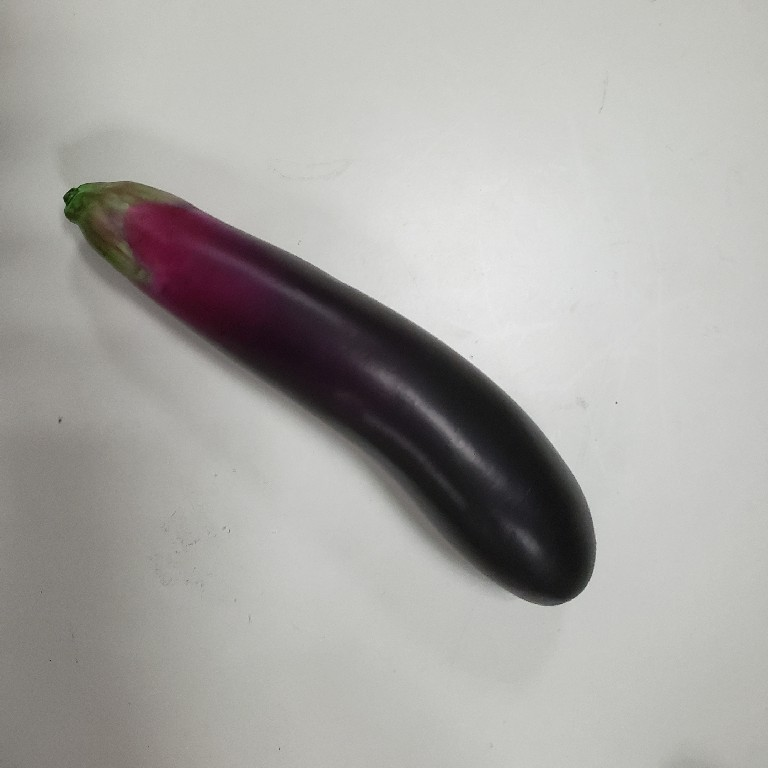fruit_eggplant: (59, 179, 598, 610)
